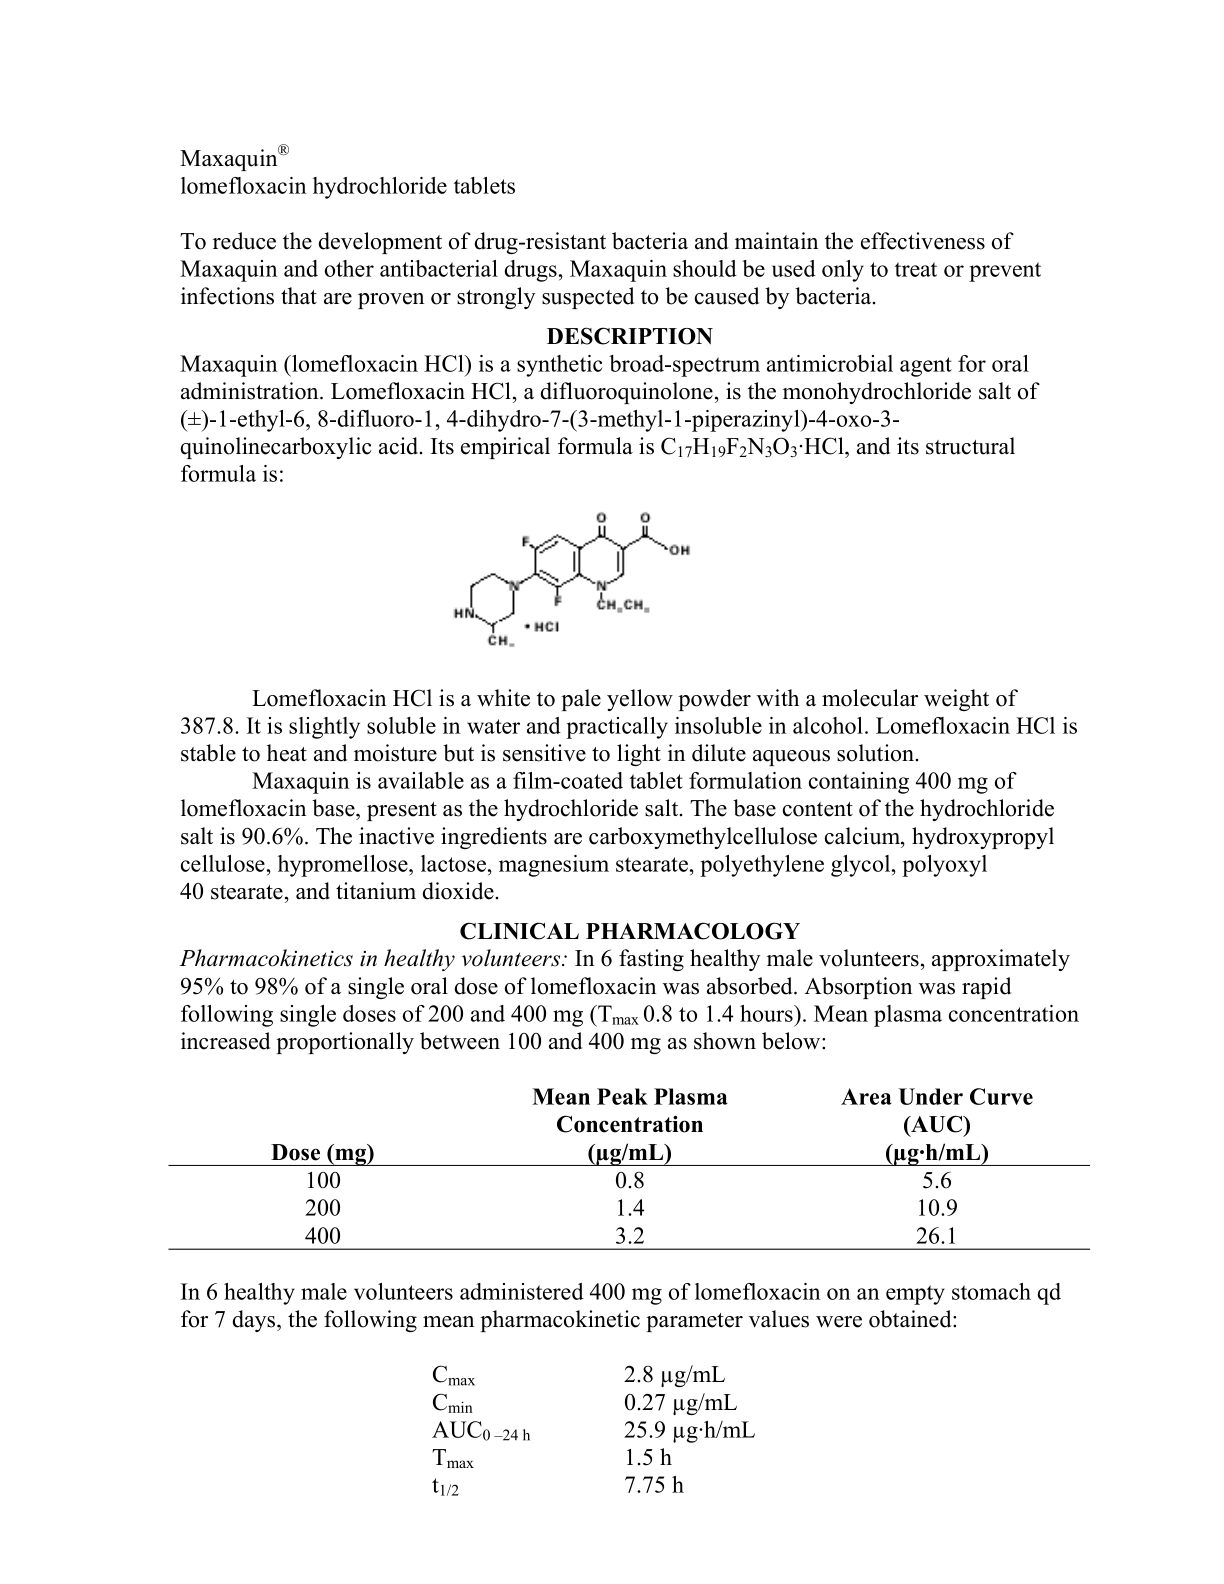nolines: (428, 1360, 752, 1497)
partial_lined: (168, 1085, 1092, 1251)
